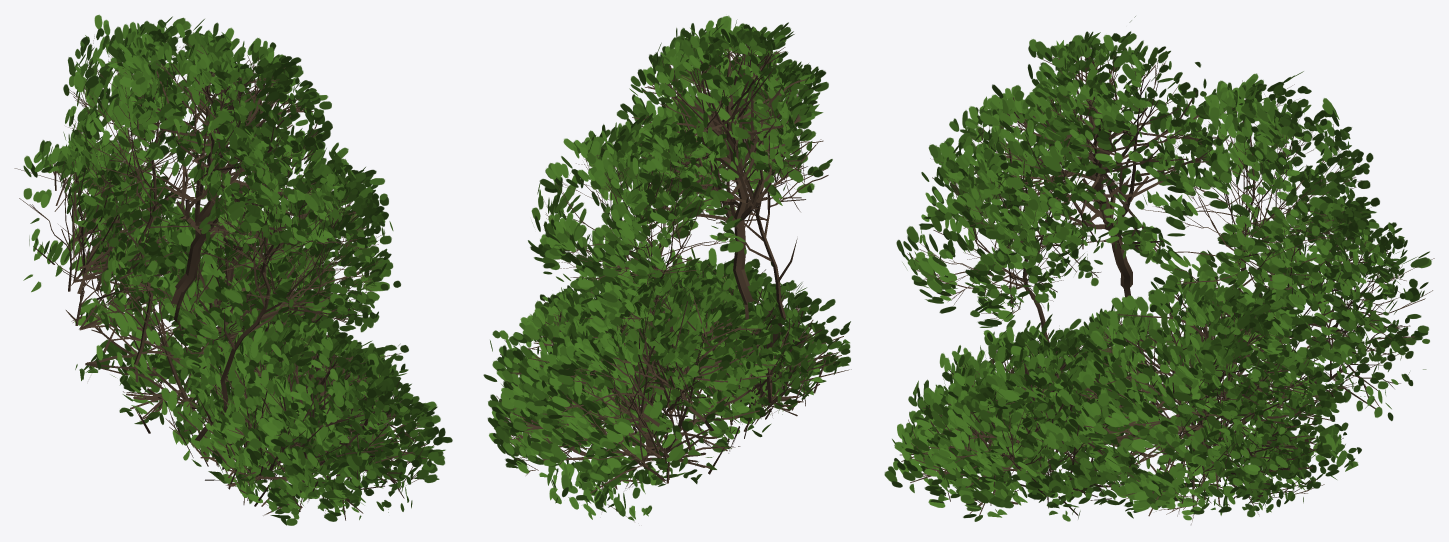
The picture shows the model from 3 angles, left to right: view 1: azimuth 30°, elevation 25°; view 2: azimuth 150°, elevation 25°; view 3: azimuth 270°, elevation 25°; orthographic projection. The views are drawn at different scales.
Parts seen in each view (by area): view 1: oak 01.001_trunk_Mat.001_0.490; view 2: oak 01.001_trunk_Mat.001_0.490; view 3: oak 01.001_trunk_Mat.001_0.490.
Boxes of the visible parts, x1,y1,x2,y2 form: oak 01.001_trunk_Mat.001_0.490: (14, 14, 452, 525); oak 01.001_trunk_Mat.001_0.490: (483, 15, 851, 521); oak 01.001_trunk_Mat.001_0.490: (884, 16, 1434, 524).
Bounding box in the file's own units: 2.81 × 5.08 × 5.74.
Materials: 2 (1 with a texture image).
